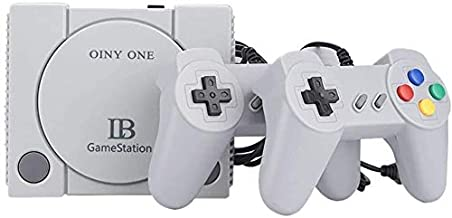gamingconsole: (255, 45, 448, 207)
